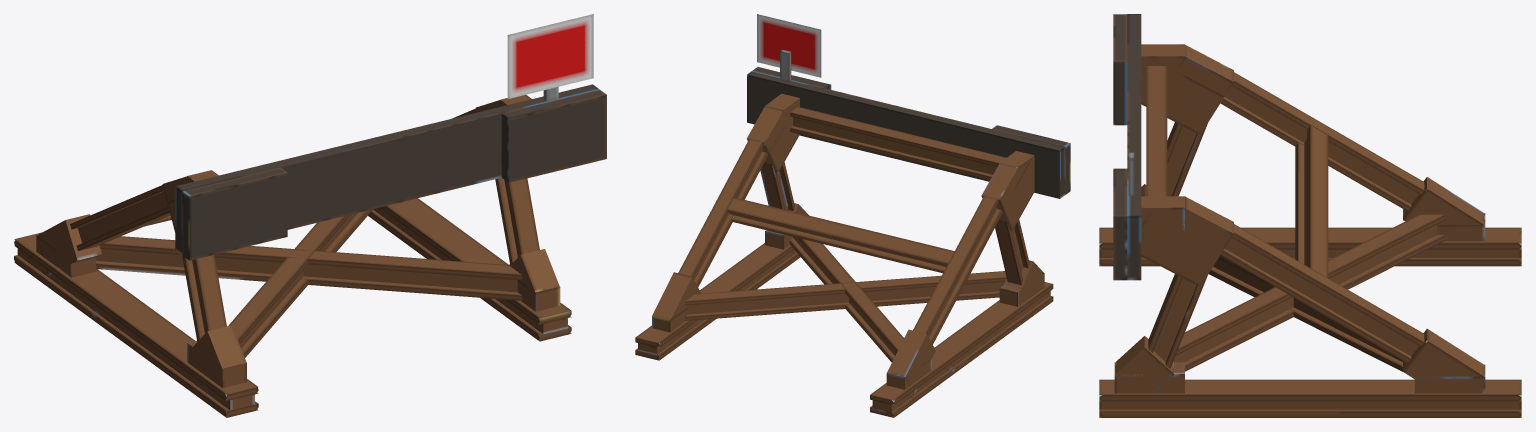
Rendered from bufferstop.obj.
3 renders of one model, left to right at view 1: azimuth 30°, elevation 25°; view 2: azimuth 150°, elevation 25°; view 3: azimuth 270°, elevation 25°, orthographic. The views are drawn at different scales.
Parts seen in each view (by area): view 1: cube; view 2: cube; view 3: cube.
Part boxes in pixels (x1=…): cube: x1=14, y1=14, x2=606, y2=417; cube: x1=635, y1=14, x2=1070, y2=417; cube: x1=1099, y1=14, x2=1521, y2=417.
Bounding box in the file's own units: 2.12 × 1.46 × 1.88.
1 material, 1 textured.
